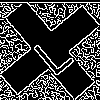L: (25, 25, 76, 78)
